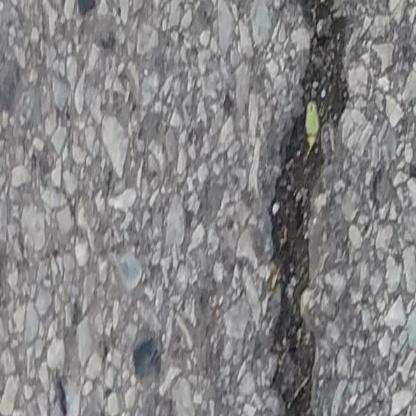Cracks: (273, 0, 357, 416)
